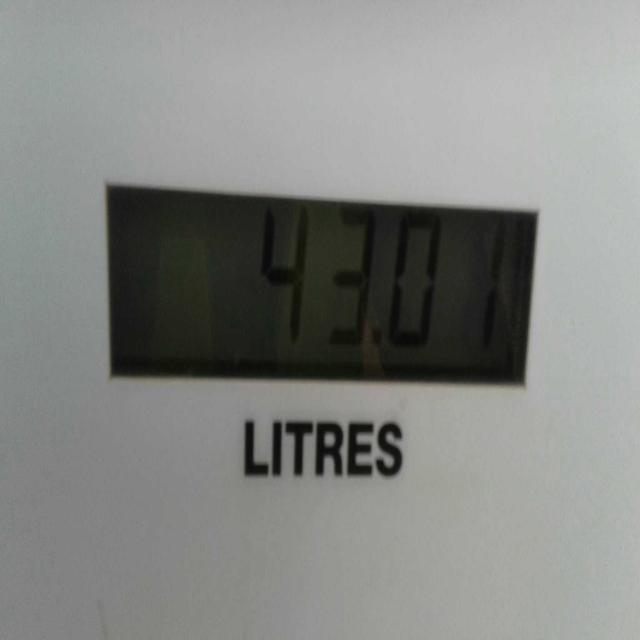.: (371, 325, 382, 349)
0: (392, 207, 437, 352)
1: (482, 214, 504, 347)
3: (334, 206, 369, 356)
4: (259, 199, 304, 348)
